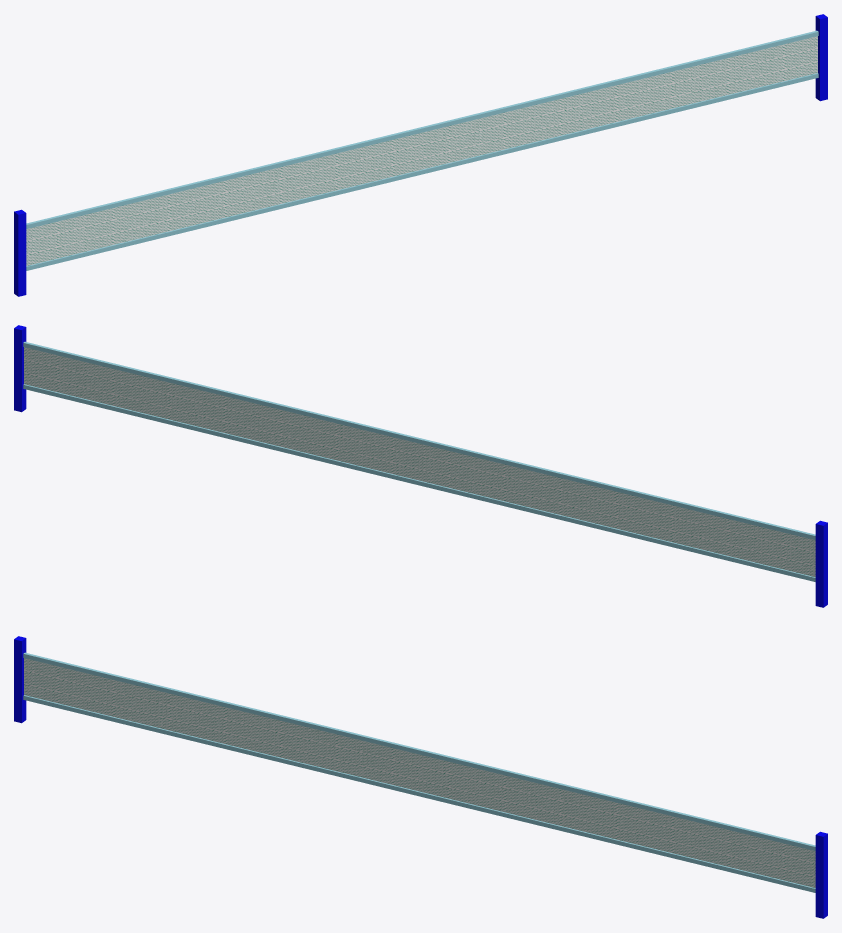
File: gardulet.obj
3 views of the same model, one above another, from view 1: azimuth 30°, elevation 25°; view 2: azimuth 150°, elevation 25°; view 3: azimuth 330°, elevation 25° (orthographic).
Parts seen in each view (by area): view 1: Mesh26, Mesh28, Mesh27, Mesh29, Mesh30; view 2: Mesh26, Mesh28, Mesh27, Mesh29, Mesh30; view 3: Mesh26, Mesh28, Mesh27, Mesh30, Mesh29.
Boxes of the visible parts, x1,y1,x2,y2 form: Mesh26: [26, 36, 817, 265]; Mesh28: [26, 30, 818, 228]; Mesh27: [26, 73, 818, 270]; Mesh29: [14, 209, 26, 296]; Mesh30: [815, 14, 827, 101]; Mesh26: [24, 347, 815, 577]; Mesh28: [23, 341, 815, 540]; Mesh27: [23, 384, 815, 581]; Mesh29: [815, 520, 827, 607]; Mesh30: [14, 325, 26, 412]; Mesh26: [24, 658, 815, 887]; Mesh28: [23, 652, 815, 850]; Mesh27: [23, 695, 815, 892]; Mesh30: [815, 831, 827, 918]; Mesh29: [14, 636, 26, 723].
Bounding box in the file's own units: 31.32 × 3.03 × 0.2975.
Materials: 5 (1 with a texture image).
